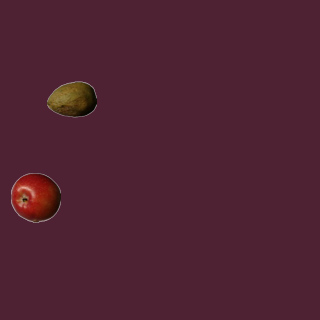Apple Braeburn: (10, 172, 60, 222)
Papaya: (46, 74, 96, 124)
